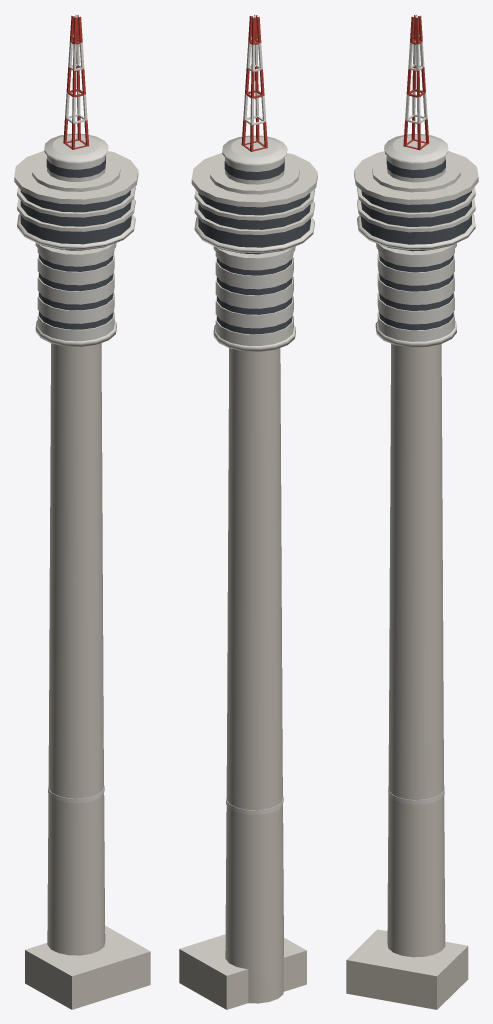
File: johannesburg-hillbrow-tower.glb
3 views of the same model, side by side, from view 1: azimuth 30°, elevation 25°; view 2: azimuth 210°, elevation 25°; view 3: azimuth 330°, elevation 25° (orthographic).
Parts seen in each view (by area): view 1: Hillbrow Tower; view 2: Hillbrow Tower; view 3: Hillbrow Tower.
Boxes of the visible parts, x1,y1,x2,y2 form: Hillbrow Tower: (14, 15, 150, 1009); Hillbrow Tower: (179, 15, 317, 1009); Hillbrow Tower: (346, 15, 478, 1009).
Size of the model in its own units: 31.8 by 269 by 32.55.
